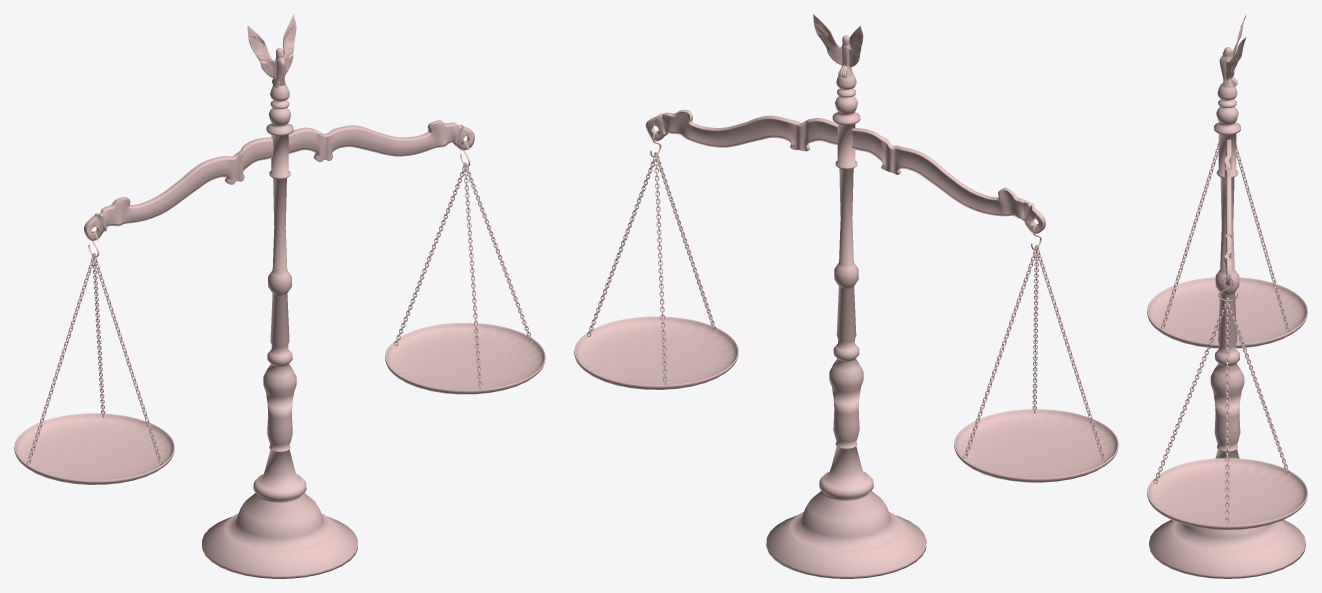
The model's file is balance_scale.glb.
3 views of the same model, side by side, from view 1: azimuth 30°, elevation 25°; view 2: azimuth 150°, elevation 25°; view 3: azimuth 270°, elevation 25° (orthographic). The views are drawn at different scales.
Visible parts, largest first — view 1: Cylinder, Circle.001, Plane, Cylinder.003, Torus, Torus.001, Torus.002, Torus.003; view 2: Cylinder, Circle.001, Plane, Torus.001, Torus, Cylinder.003, Torus.003; view 3: Circle.001, Cylinder, Torus.001, Plane, Torus, Cylinder.003, Torus.002, Torus.003.
Part boxes in pixels (x1=…): Cylinder: x1=202, y1=85, x2=357, y2=578; Circle.001: x1=14, y1=323, x2=545, y2=484; Plane: x1=84, y1=120, x2=474, y2=241; Cylinder.003: x1=247, y1=14, x2=296, y2=88; Torus: x1=26, y1=163, x2=532, y2=465; Torus.001: x1=92, y1=162, x2=467, y2=417; Torus.002: x1=92, y1=253, x2=162, y2=464; Torus.003: x1=463, y1=162, x2=482, y2=389; Cylinder: x1=766, y1=73, x2=926, y2=578; Circle.001: x1=574, y1=316, x2=1118, y2=482; Plane: x1=645, y1=110, x2=1045, y2=233; Torus.001: x1=654, y1=152, x2=1038, y2=458; Torus: x1=587, y1=152, x2=1105, y2=462; Cylinder.003: x1=813, y1=14, x2=863, y2=77; Torus.003: x1=655, y1=152, x2=716, y2=331; Circle.001: x1=1147, y1=277, x2=1307, y2=529; Cylinder: x1=1149, y1=83, x2=1305, y2=578; Torus.001: x1=1226, y1=144, x2=1289, y2=475; Plane: x1=1223, y1=139, x2=1231, y2=285; Torus: x1=1225, y1=297, x2=1229, y2=525; Cylinder.003: x1=1219, y1=15, x2=1246, y2=88; Torus.002: x1=1161, y1=142, x2=1218, y2=329; Torus.003: x1=1153, y1=297, x2=1228, y2=483.
Size of the model in its own units: 7.52 by 7.32 by 2.05.
